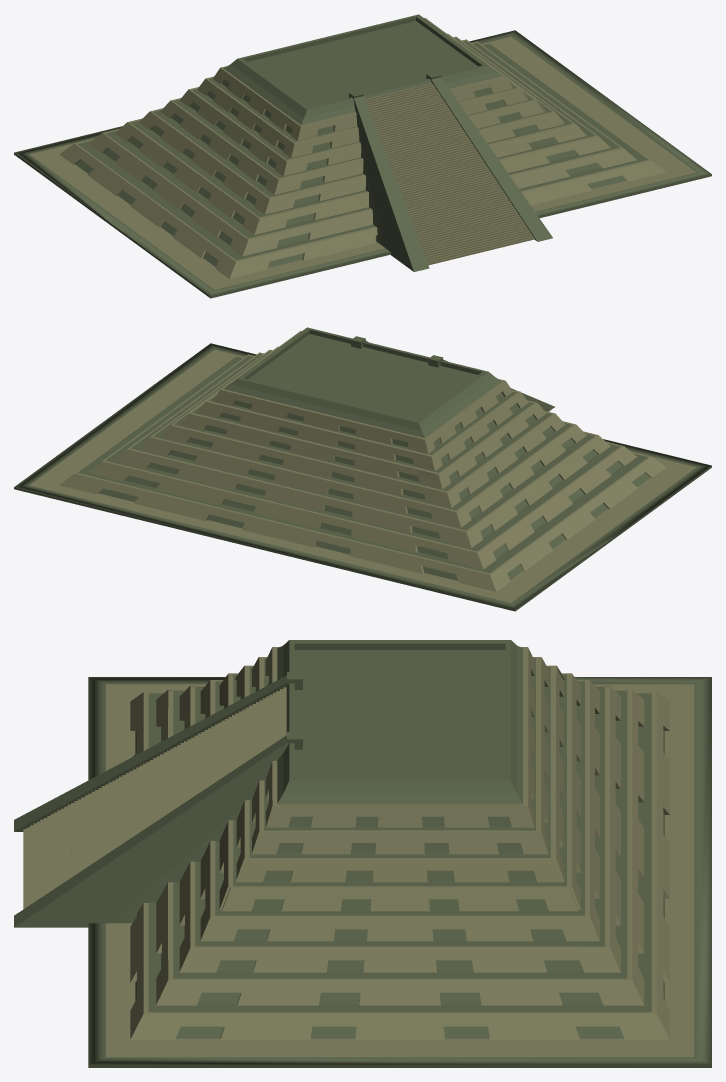
Rendered from pyramid_maya02.fbx.
3 renders of one model, top to bottom at view 1: azimuth 30°, elevation 25°; view 2: azimuth 150°, elevation 25°; view 3: azimuth 270°, elevation 25°, orthographic. The views are drawn at different scales.
Visible parts, largest first — view 1: pyramid_maya02ground, pyramid_maya02walls, pyramid_maya02stairs, pyramid_maya02railing; view 2: pyramid_maya02ground, pyramid_maya02walls, pyramid_maya02railing; view 3: pyramid_maya02ground, pyramid_maya02walls, pyramid_maya02railing, pyramid_maya02stairs.
Boxes of the visible parts, x1,y1,x2,y2 form: pyramid_maya02ground: [14, 14, 711, 298]; pyramid_maya02walls: [59, 18, 666, 278]; pyramid_maya02stairs: [365, 83, 534, 265]; pyramid_maya02railing: [349, 72, 552, 271]; pyramid_maya02ground: [14, 327, 711, 611]; pyramid_maya02walls: [59, 331, 666, 591]; pyramid_maya02railing: [351, 336, 554, 411]; pyramid_maya02ground: [88, 640, 711, 1067]; pyramid_maya02walls: [130, 647, 669, 1039]; pyramid_maya02railing: [14, 672, 302, 927]; pyramid_maya02stairs: [23, 687, 286, 909].
Size of the model in its own units: 8.78 by 1.78 by 6.68.
